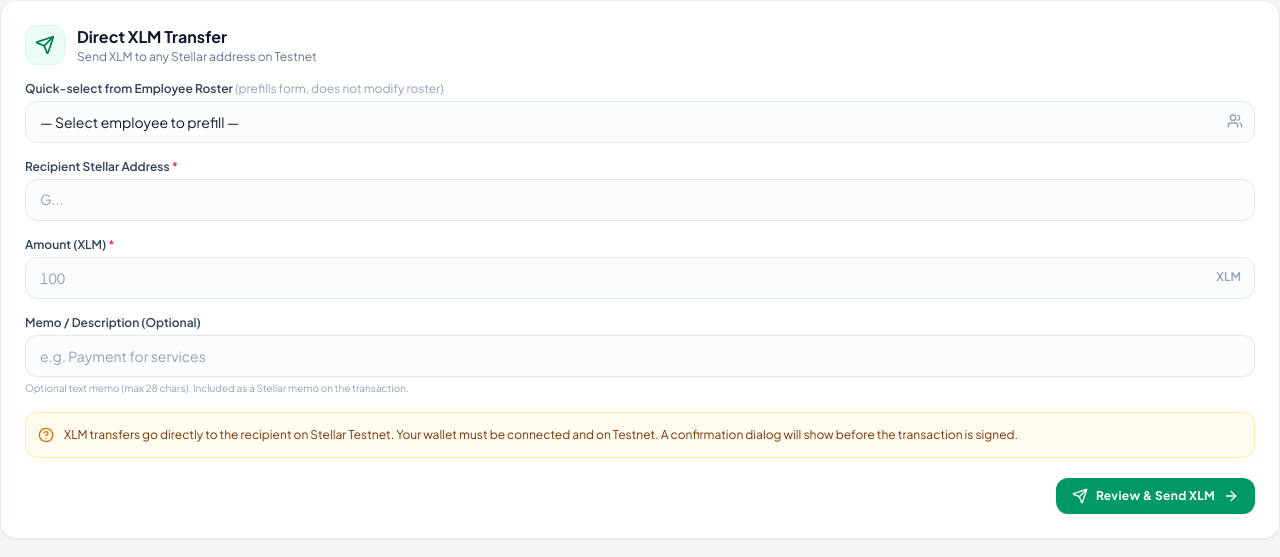
Test: DirectXlmForm › roster-prefilled payment › prefills form fields from roster picker selection
Select "Alice Chen — 1,000 XLM" in the dropdown named "Select employee". click: (640, 122)
box: [25,101,1255,143]
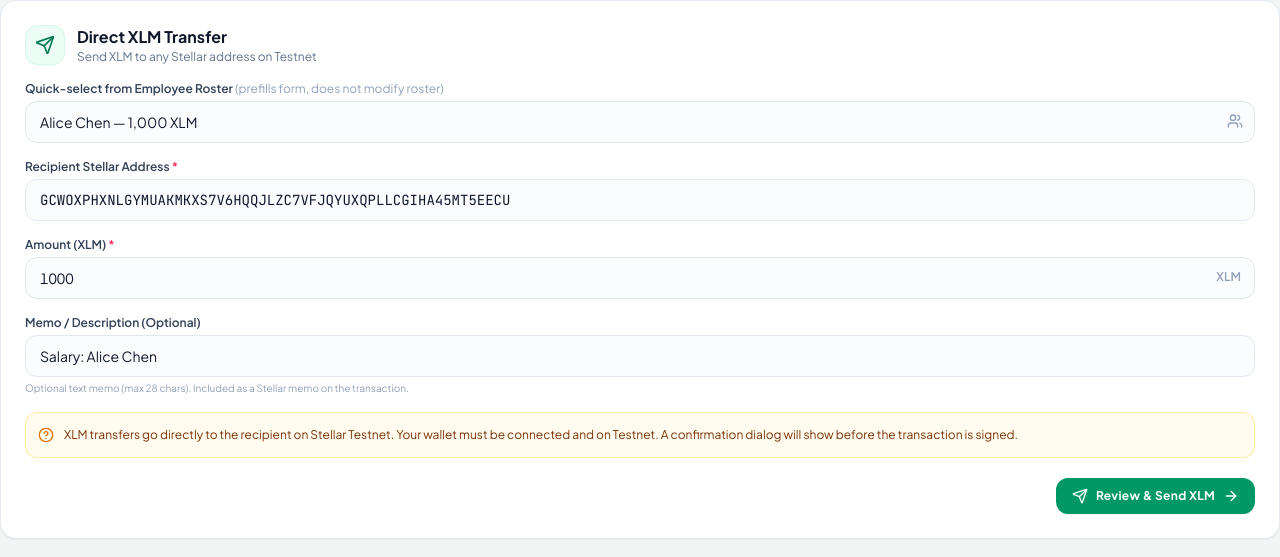
Result: the field labelled "Recipient Stellar Address *" holds "GCWOXPHXNLGYMUAKMKXS7V6HQQJLZC7VFJQYUXQPLLCGIHA45MT5EECU" at [25,179,1255,221]
